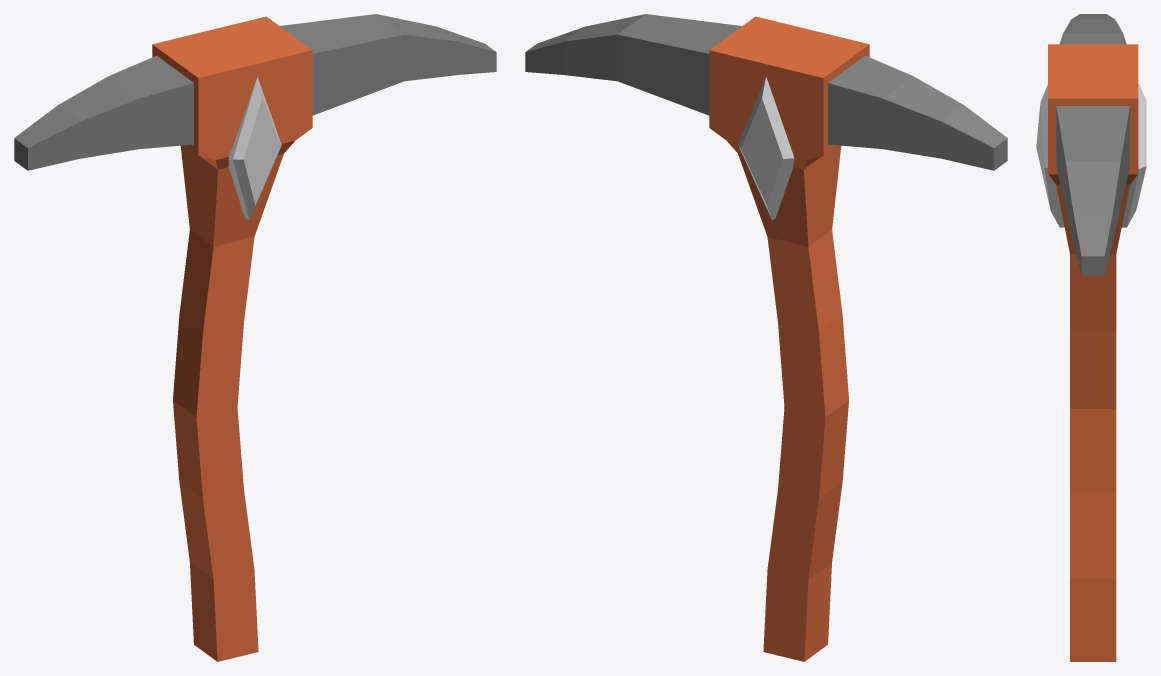
Rendered from Weapon_PickAxe_01.fbx.
The picture shows the model from 3 angles, left to right: view 1: azimuth 30°, elevation 25°; view 2: azimuth 150°, elevation 25°; view 3: azimuth 270°, elevation 25°; orthographic projection. The views are drawn at different scales.
Parts seen in each view (by area): view 1: Weapon_Axe_01; view 2: Weapon_Axe_01; view 3: Weapon_Axe_01.
Boxes of the visible parts, x1=… form: Weapon_Axe_01: x1=14, y1=14, x2=496, y2=661; Weapon_Axe_01: x1=525, y1=14, x2=1007, y2=661; Weapon_Axe_01: x1=1036, y1=14, x2=1146, y2=661.
Bounding box in the file's own units: 180 × 219 × 37.61.
